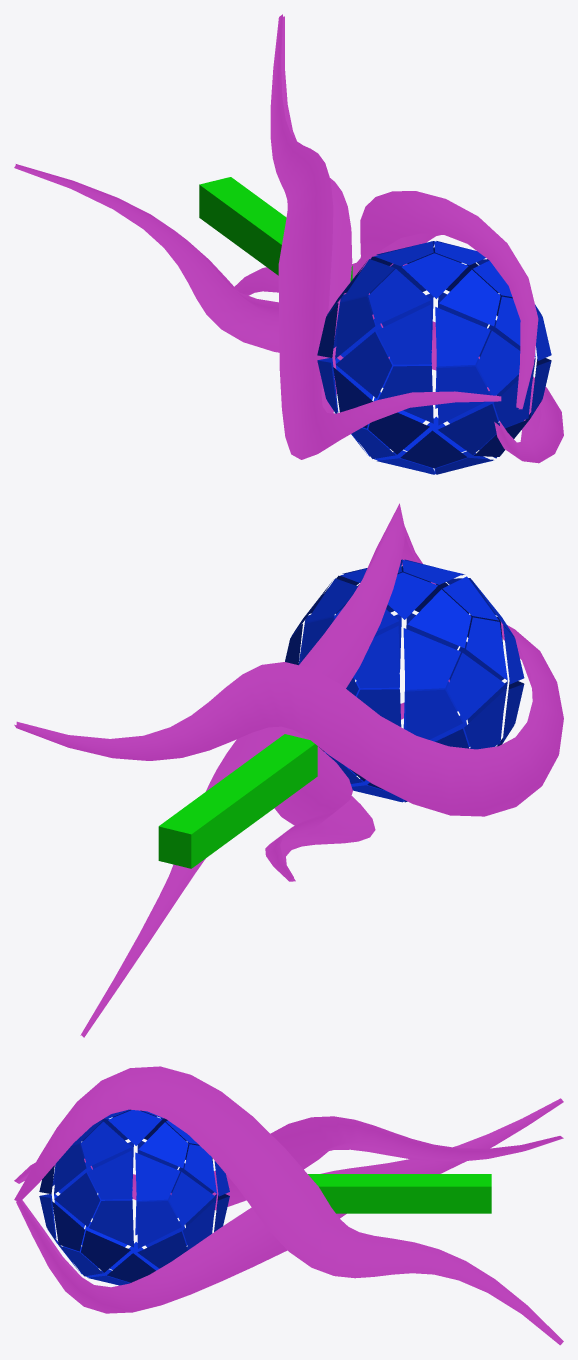
File: bonita.fbx
3 renders of one model, top to bottom at view 1: azimuth 30°, elevation 25°; view 2: azimuth 150°, elevation 25°; view 3: azimuth 270°, elevation 25°, orthographic. The views are drawn at different scales.
Visible parts, largest first — view 1: BezierCurve.001, space.001, Cube.002; view 2: BezierCurve.001, space.001, Cube.002; view 3: BezierCurve.001, space.001, Cube.002.
Boxes of the visible parts, box(x1,y1,x2,y2) form: BezierCurve.001: box(14, 14, 563, 463); space.001: box(317, 241, 551, 474); Cube.002: box(199, 177, 352, 281); BezierCurve.001: box(14, 503, 563, 1037); space.001: box(285, 559, 524, 802); Cube.002: box(158, 734, 317, 868); BezierCurve.001: box(14, 1066, 563, 1345); space.001: box(39, 1109, 229, 1285); Cube.002: box(308, 1174, 491, 1213).
Size of the model in its own units: 65.09 by 69.49 by 132.
